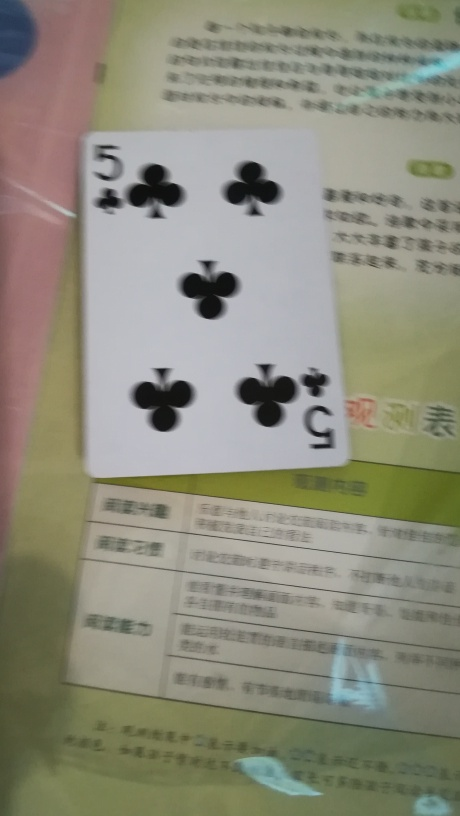mh 5: (74, 127, 349, 480)
